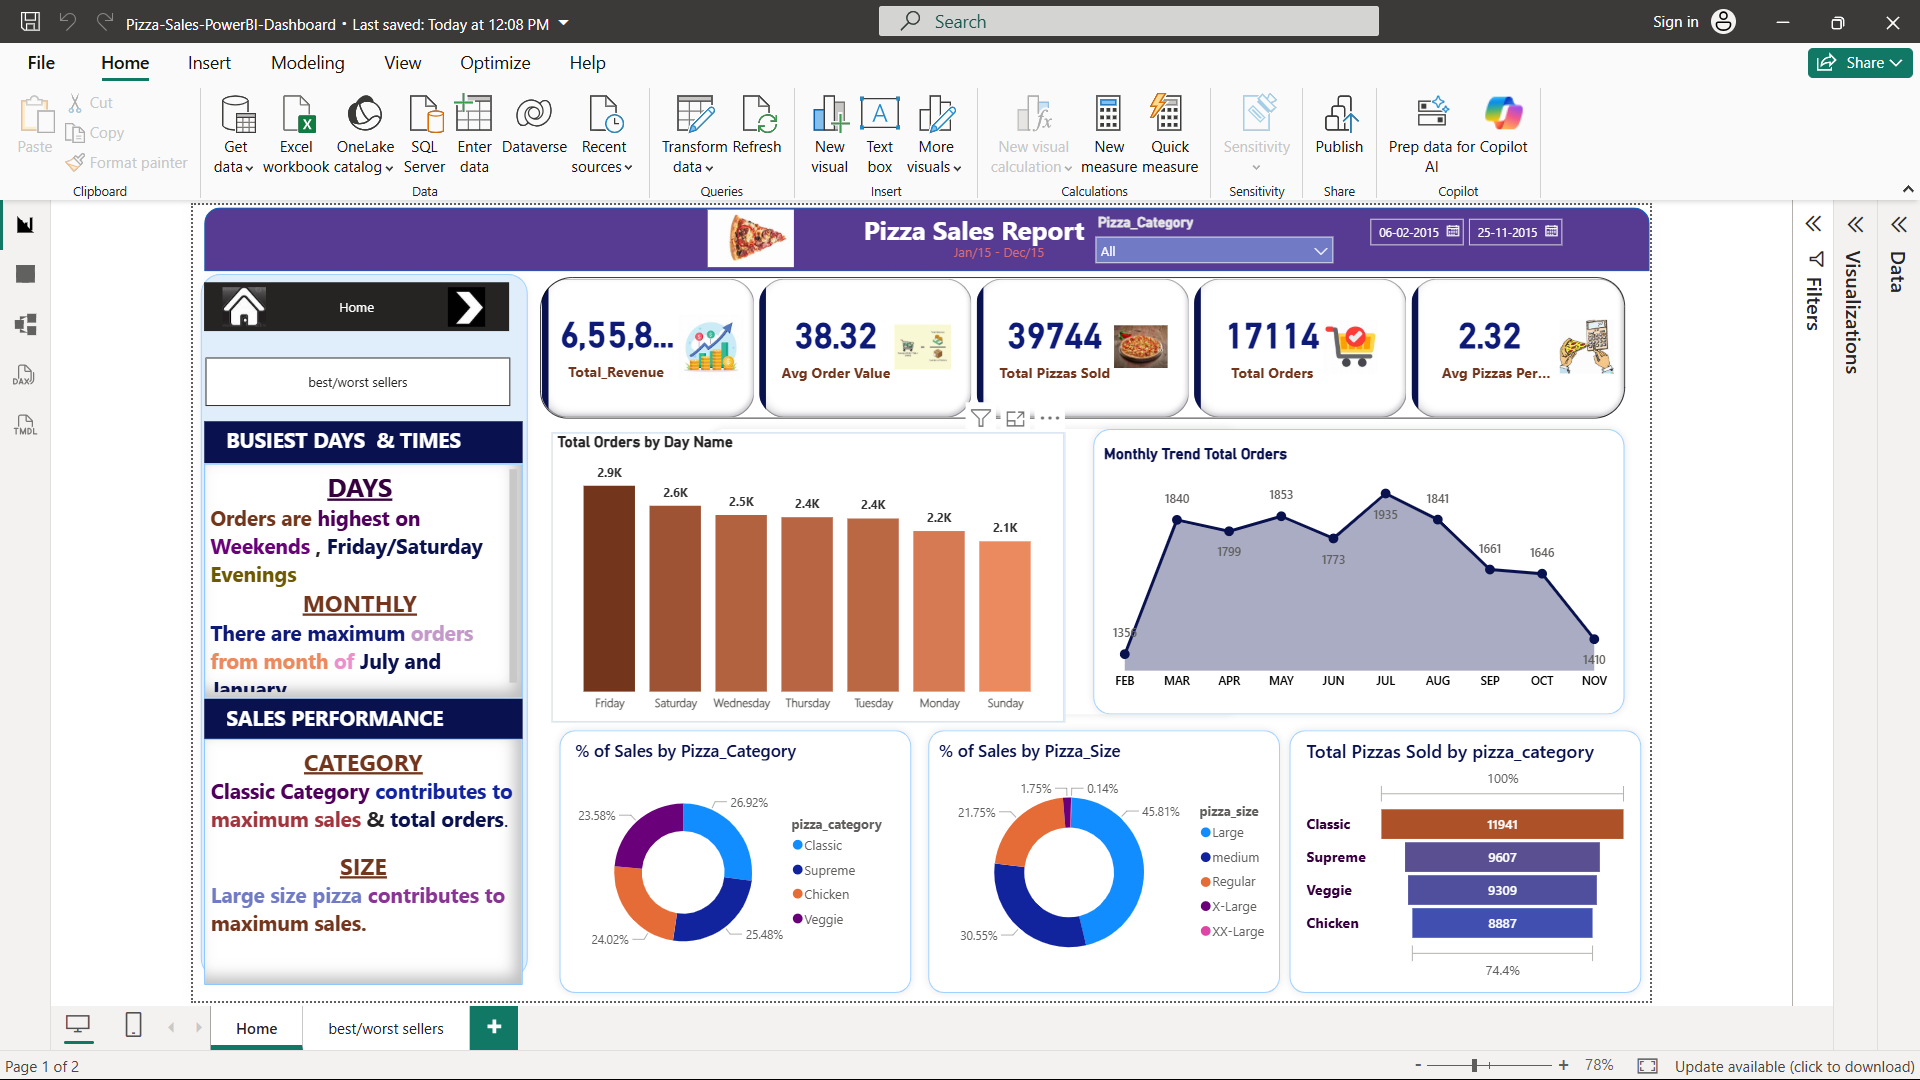

The dashboard page shown, as its layout file describes it:
{"tool":"powerbi","page":{"name":"Home","canvas":[1500,820],"ordinal":0},"visuals":[{"type":"shape","box":[0,62.7,352.9,741.3],"z":0},{"type":"cardVisual","fields":{"Data":["pizza_sales.Total_Revenue","pizza_sales.Avg Order Value","pizza_sales.Total Pizzas Sold","pizza_sales.Total Orders","pizza_sales.Avg Pizzas Per Order"]},"box":[352.9,69.5,1129.6,155.3],"z":1000},{"type":"shape","box":[11.3,3.2,1489.1,65.9],"z":2000},{"type":"textbox","box":[670,2.9,270,45.7],"z":3000},{"type":"textbox","box":[770.3,35.4,120.6,45],"z":4000},{"type":"shape","box":[522.9,222.9,564.3,310],"z":5000},{"type":"clusteredColumnChart","fields":{"Y":["pizza_sales.Total Orders"],"Category":["pizza_sales.Day Name"]},"box":[370,235,528.3,298.3],"z":6000},{"type":"image","box":[479.2,0,191.4,69.1],"z":7000},{"type":"shape","box":[920,223.3,563.3,310],"z":8000},{"type":"areaChart","title":"Monthly Trend Total Orders","fields":{"Category":["pizza_sales.Order Month"],"Y":["pizza_sales.Total Orders"]},"box":[933.3,246.7,536.7,261.7],"z":9000},{"type":"shape","box":[370,533.3,378.3,286.7],"z":10000},{"type":"shape","box":[750,533.3,378.3,286.7],"z":11000},{"type":"shape","box":[1121.7,533.3,378.3,286.7],"z":12000},{"type":"donutChart","title":"% of Sales by Pizza_Category","fields":{"Category":["pizza_sales.pizza_category"],"Y":["pizza_sales.Total_Revenue"]},"box":[388.3,550,341.7,253.3],"z":13000},{"type":"donutChart","title":"% of Sales by Pizza_Size","fields":{"Y":["pizza_sales.Total_Revenue"],"Category":["pizza_sales.pizza_size"]},"box":[763.3,550,358.3,253.3],"z":14000},{"type":"funnel","fields":{"Category":["pizza_sales.pizza_category"],"Y":["pizza_sales.Total Pizzas Sold"]},"box":[1141.7,550,341.7,253.3],"z":15000},{"type":"textbox","box":[11.7,223.3,328.3,43.3],"z":16000},{"type":"textbox","box":[11.7,266.7,328.3,241.7],"z":17000},{"type":"textbox","box":[11.7,508.3,328.3,41.7],"z":18000},{"type":"textbox","box":[11.7,550,328.3,253.3],"z":19000},{"type":"slicer","fields":{"Values":["pizza_sales.pizza_category"]},"box":[920,3.3,265,65],"z":20000},{"type":"slicer","fields":{"Values":["pizza_sales.order_date"]},"box":[1200,3.3,233.3,65],"z":21000},{"type":"pageNavigator","box":[11.6,79.8,314.2,50.2],"z":22000},{"type":"pageNavigator","box":[12.3,156.7,314.8,50.4],"z":23000},{"type":"image","box":[236.9,79.8,88.9,50.2],"z":24000},{"type":"image","box":[0,79.8,105.6,50.2],"z":25000}]}

Visuals, with their boxes on the page's 1500x820 design canvas (x1, y1, x2, y2). These are canvas units, not pixel positions in the 1920x1080 screenshot, which may show the page scaled, cropped or inside an application window:
shape: left=0, top=63, right=353, bottom=804
cardVisual - pizza_sales.Total_Revenue x pizza_sales.Avg Order Value: left=353, top=70, right=1482, bottom=225
shape: left=11, top=3, right=1500, bottom=69
textbox: left=670, top=3, right=940, bottom=49
textbox: left=770, top=35, right=891, bottom=80
shape: left=523, top=223, right=1087, bottom=533
clusteredColumnChart - pizza_sales.Total Orders x pizza_sales.Day Name: left=370, top=235, right=898, bottom=533
image: left=479, top=0, right=671, bottom=69
shape: left=920, top=223, right=1483, bottom=533
"Monthly Trend Total Orders" areaChart: left=933, top=247, right=1470, bottom=508
shape: left=370, top=533, right=748, bottom=820
shape: left=750, top=533, right=1128, bottom=820
shape: left=1122, top=533, right=1500, bottom=820
"% of Sales by Pizza_Category" donutChart: left=388, top=550, right=730, bottom=803
"% of Sales by Pizza_Size" donutChart: left=763, top=550, right=1122, bottom=803
funnel - pizza_sales.pizza_category x pizza_sales.Total Pizzas Sold: left=1142, top=550, right=1483, bottom=803
textbox: left=12, top=223, right=340, bottom=267
textbox: left=12, top=267, right=340, bottom=508
textbox: left=12, top=508, right=340, bottom=550
textbox: left=12, top=550, right=340, bottom=803
slicer - pizza_sales.pizza_category: left=920, top=3, right=1185, bottom=68
slicer - pizza_sales.order_date: left=1200, top=3, right=1433, bottom=68
pageNavigator: left=12, top=80, right=326, bottom=130
pageNavigator: left=12, top=157, right=327, bottom=207
image: left=237, top=80, right=326, bottom=130
image: left=0, top=80, right=106, bottom=130
